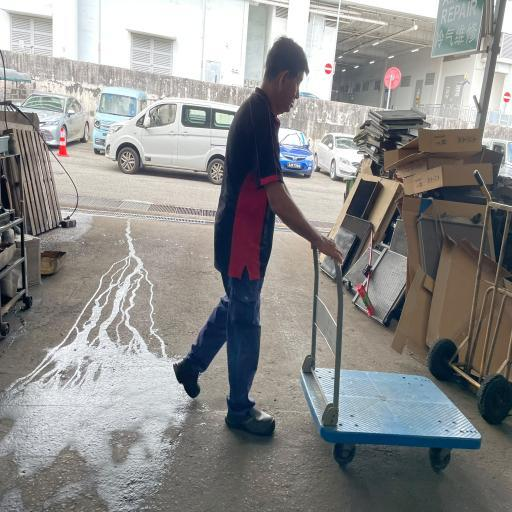person_right: (173, 37, 481, 473)
